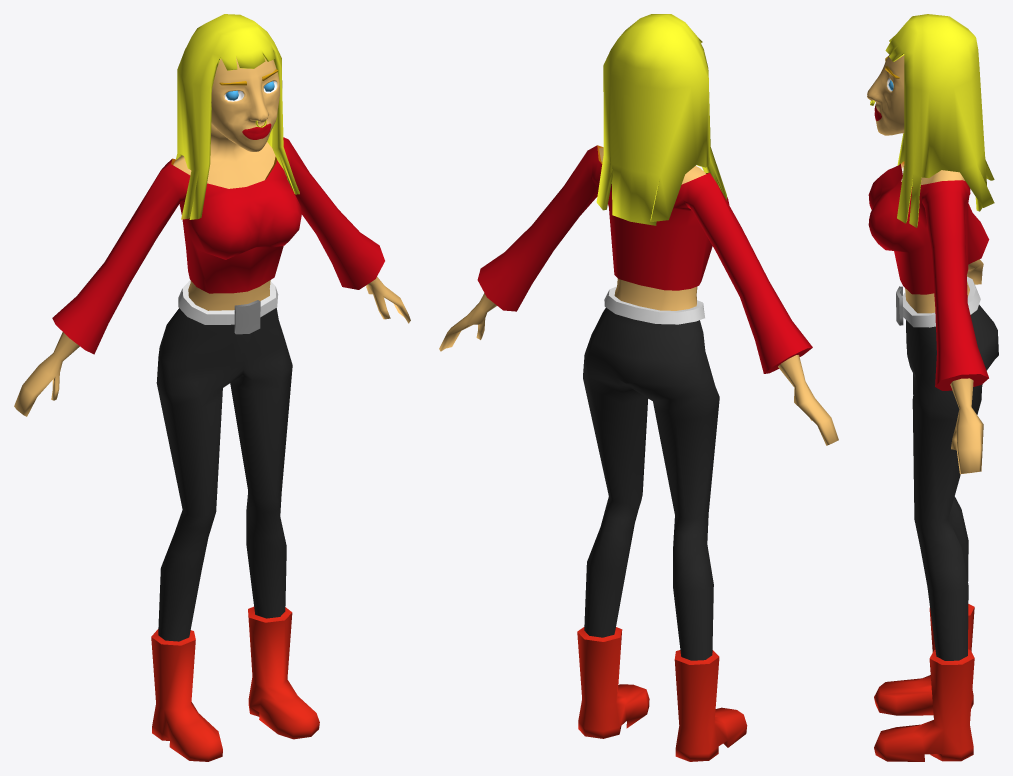
File: Girl_3.fbx
The picture shows the model from 3 angles, left to right: view 1: azimuth 30°, elevation 25°; view 2: azimuth 150°, elevation 25°; view 3: azimuth 270°, elevation 25°; orthographic projection.
Visible parts, largest first — view 1: Girl_3; view 2: Girl_3; view 3: Girl_3.
Boxes of the visible parts, x1,y1,x2,y2 form: Girl_3: (14, 14, 410, 761); Girl_3: (439, 14, 838, 761); Girl_3: (867, 14, 998, 761).
Size of the model in its own units: 87.68 by 152 by 25.5.
Materials: 1 (1 with a texture image).
